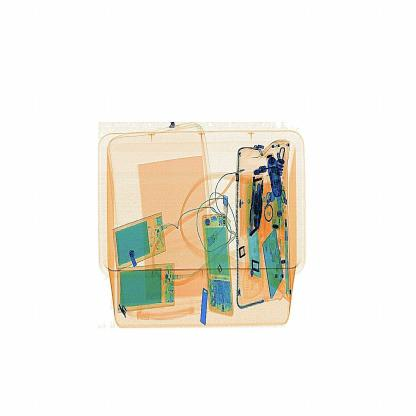pliers: (241, 220, 275, 308)
